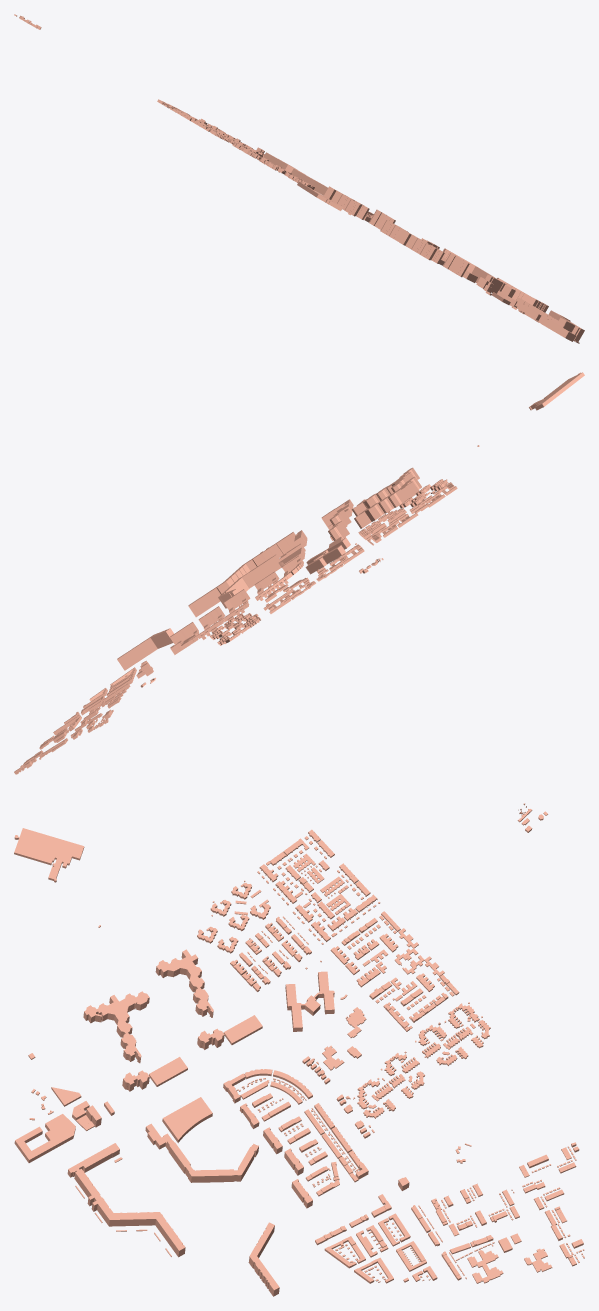
3 renders of one model, top to bottom at view 1: azimuth 30°, elevation 25°; view 2: azimuth 150°, elevation 25°; view 3: azimuth 270°, elevation 25°, orthographic. The views are drawn at different scales.
Bounding box in the file's own units: 1026 × 743 × 1269.
